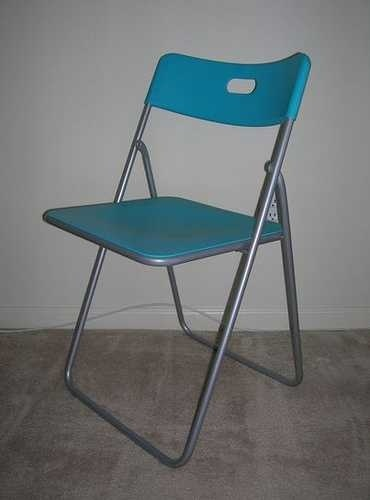obstacle: (43, 53, 310, 467)
